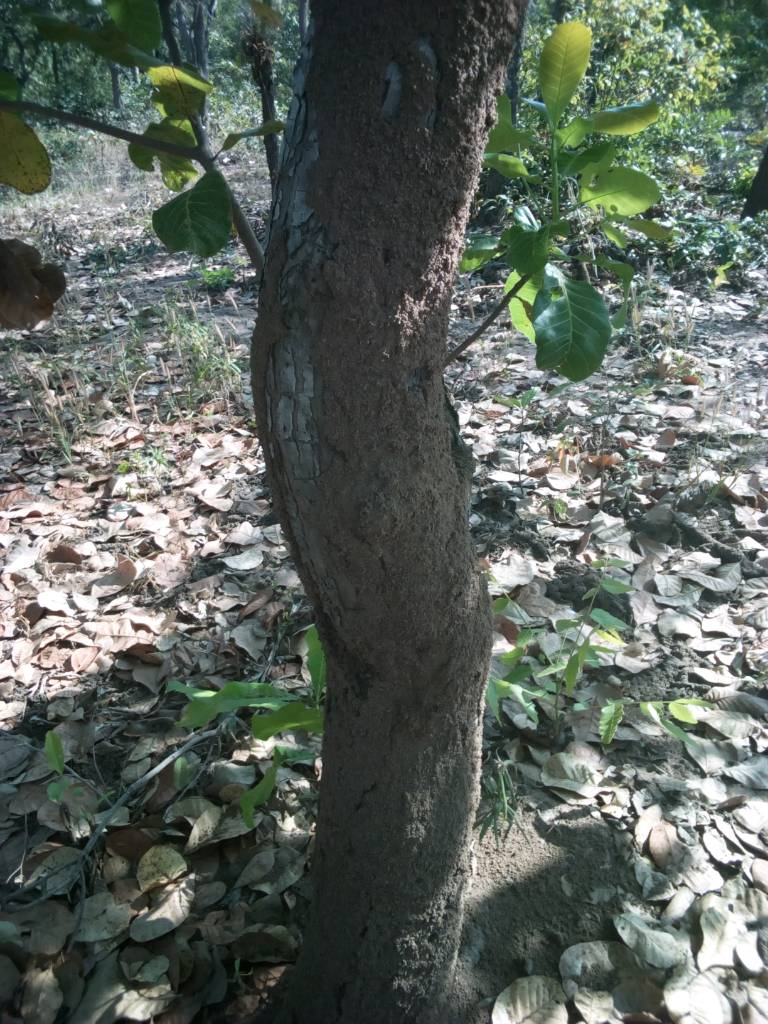Virose: (276, 13, 538, 1024)
